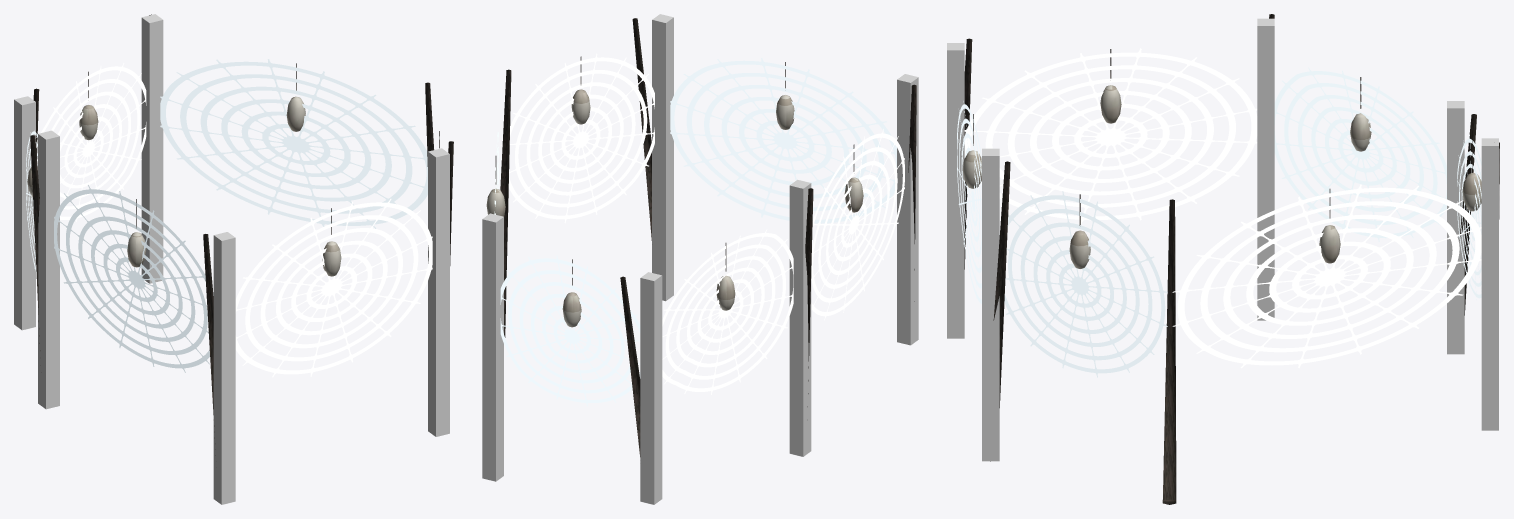
File: spider_webs.glb
The picture shows the model from 3 angles, left to right: view 1: azimuth 30°, elevation 25°; view 2: azimuth 150°, elevation 25°; view 3: azimuth 270°, elevation 25°; orthographic projection. The views are drawn at different scales.
Visible parts, largest first — view 1: Webs, Stem-convcolonly.004, Stem-convcolonly.005, Stem-convcolonly.003, Stem-convcolonly.001, Stem-convcolonly.002, DeadStems, Cocoons; view 2: Webs, Stem-convcolonly.005, Stem-convcolonly.001, Stem-convcolonly.003, DeadStems, Stem-convcolonly.002, Stem-convcolonly.004, Cocoons; view 3: Webs, DeadStems, Stem-convcolonly.005, Stem-convcolonly.001, Stem-convcolonly.004, Stem-convcolonly.003, Cocoons, Stem-convcolonly.002.
Part boxes in pixels (x1,y1,x2,y2): Webs: [26, 59, 439, 377]; Stem-convcolonly.004: [213, 232, 235, 504]; Stem-convcolonly.005: [428, 148, 449, 436]; Stem-convcolonly.003: [38, 130, 59, 409]; Stem-convcolonly.001: [141, 14, 163, 283]; Stem-convcolonly.002: [14, 96, 35, 330]; DeadStems: [30, 14, 453, 455]; Cocoons: [27, 96, 341, 276]; Webs: [494, 53, 904, 406]; Stem-convcolonly.005: [652, 14, 673, 301]; Stem-convcolonly.001: [482, 213, 503, 481]; Stem-convcolonly.003: [789, 179, 811, 456]; DeadStems: [495, 18, 916, 456]; Stem-convcolonly.002: [640, 272, 662, 504]; Stem-convcolonly.004: [897, 74, 918, 345]; Cocoons: [486, 89, 863, 327]; Webs: [957, 48, 1481, 377]; DeadStems: [964, 14, 1499, 504]; Stem-convcolonly.005: [982, 148, 999, 461]; Stem-convcolonly.001: [1481, 138, 1498, 430]; Stem-convcolonly.004: [947, 43, 964, 338]; Stem-convcolonly.003: [1257, 18, 1274, 320]; Cocoons: [962, 85, 1481, 268]; Stem-convcolonly.002: [1447, 101, 1464, 354].
Size of what is drawn, in the model's own units: 10.66 by 7.74 by 12.66.
3 materials, 3 textured.
